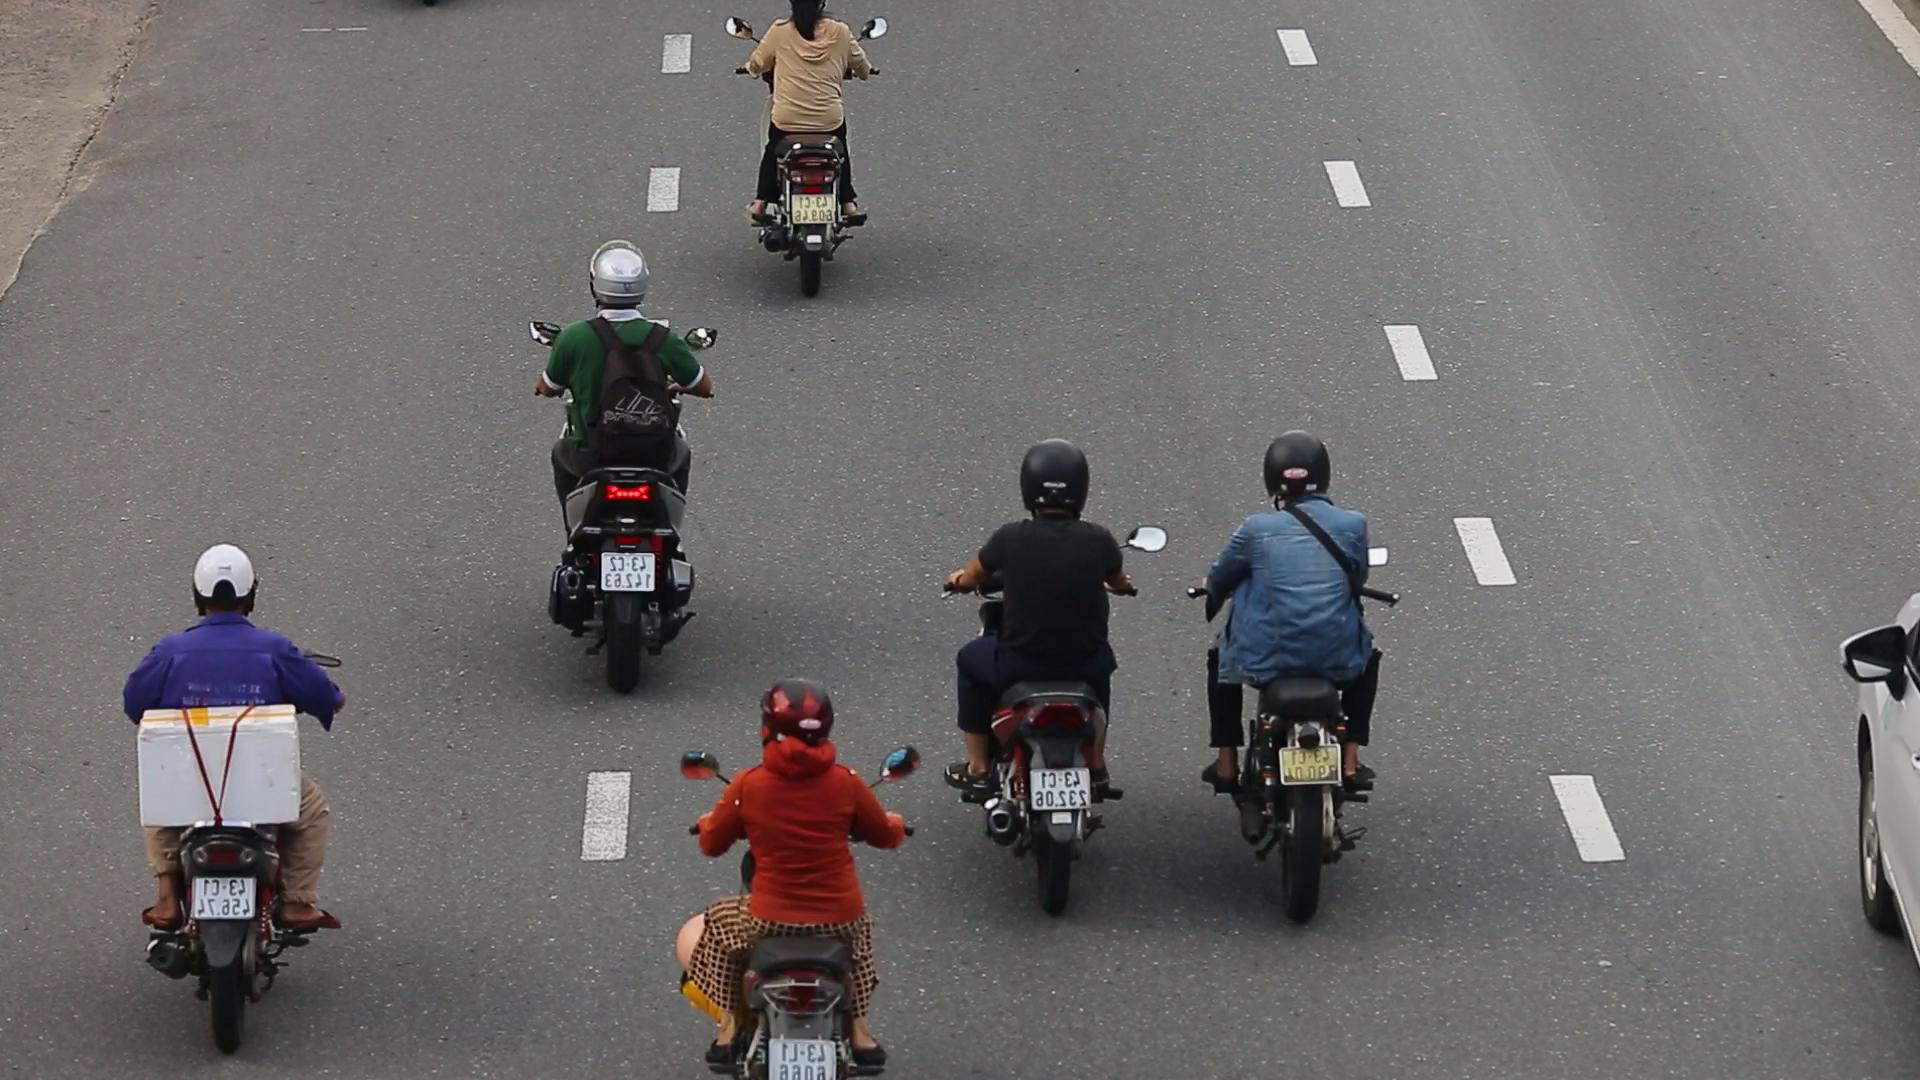motobike: (116, 516, 364, 1062), (936, 388, 1170, 930), (1168, 417, 1410, 935), (531, 229, 729, 704)
